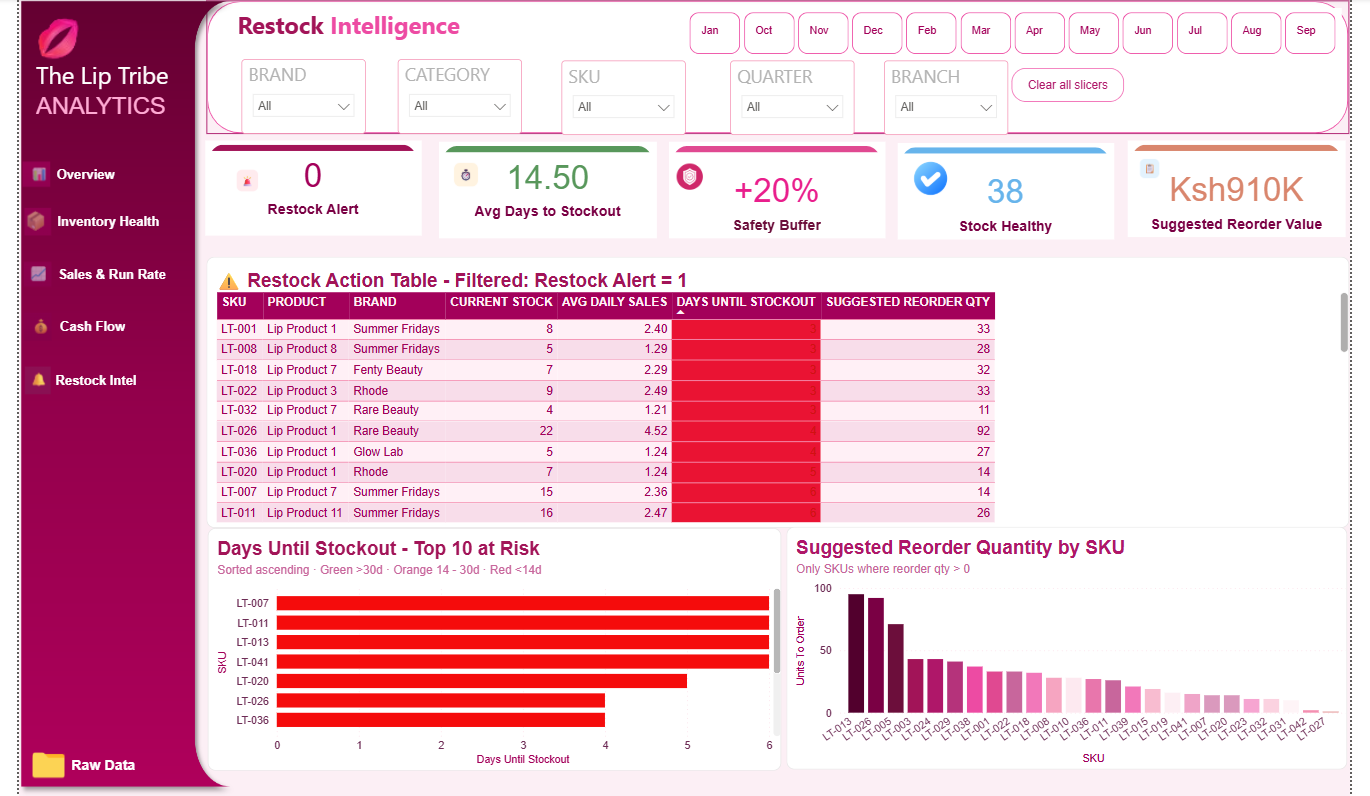

The page's visual inventory and layout, read from the dashboard file:
{"tool":"powerbi","page":{"name":"Restock Intel","canvas":[1500,900],"ordinal":4},"visuals":[{"type":"textbox","box":[240.4,7.6,485.9,83.7],"z":0,"group":"g8"},{"type":"group","id":"g1","title":"Group 1","box":[209.4,160.5,244,107],"z":0,"group":"g6"},{"type":"shape","box":[211.9,3,1288.1,150.7],"z":1000},{"type":"advancedSlicerVisual","fields":{"Values":["Calendar.Month_Short"]},"box":[750.5,11.5,739.8,57.4],"z":1000,"group":"g8"},{"type":"group","id":"g2","title":"Group 2","box":[472.4,162,245.7,108.5],"z":1000,"group":"g6"},{"type":"slicer","title":"BRAND","fields":{"Values":["Products.Brand"]},"box":[249.8,68.9,140.3,83.7],"z":2000,"group":"g8"},{"type":"group","id":"g3","title":"Group 3","box":[728.1,162,247.7,108.5],"z":2000,"group":"g6"},{"type":"tableEx","title":"⚠️ Restock Action Table - Filtered: Restock Alert = 1","fields":{"Values":["Sales.SKU","Products.Product_Name","Products.Brand","Sales.Current Stock","Sales.Avg Daily Sales","Sales.Days Until Stockout","Sales.Suggested Reorder Qty"]},"box":[210.7,291.1,1288.1,305.5],"z":2000},{"type":"image","box":[0,0,246.1,900.3],"z":3000},{"type":"slicer","title":"CATEGORY","fields":{"Values":["Products.Category"]},"box":[426.5,68.9,140.3,83.7],"z":3000,"group":"g8"},{"type":"group","id":"g4","title":"Group 4","box":[989.7,163.6,244,108.5],"z":3000,"group":"g6"},{"type":"barChart","title":"Days Until Stockout - Top 10 at Risk","fields":{"Category":["Products.SKU"],"Y":["Sales.Days Until Stockout"]},"box":[212.5,597.7,646.4,273.4],"z":3000,"group":"g7"},{"type":"textbox","title":"The Lip Tribe","box":[13.8,67.3,304.2,39.7],"z":4000},{"type":"slicer","title":"QUARTER","fields":{"Values":["Calendar.Quarter"]},"box":[800.8,70.6,140.3,83.7],"z":4000,"group":"g8"},{"type":"group","id":"g5","title":"Group 5","box":[1247.3,160.5,247.6,108.5],"z":4000,"group":"g6"},{"type":"slicer","title":"SKU","fields":{"Values":["Products.SKU"]},"box":[610.2,70.6,140.3,83.7],"z":5000,"group":"g8"},{"type":"textbox","title":"ANALYTICS","box":[13.8,107,293.5,44.3],"z":5000},{"type":"columnChart","title":"Suggested Reorder Quantity by SKU","fields":{"Category":["Products.SKU"],"Y":["Sales.Suggested Reorder Qty"]},"box":[865.4,596.1,632,273.4],"z":5000,"group":"g7"},{"type":"image","box":[0,7.6,89.2,71.3],"z":6000},{"type":"slicer","title":"BRANCH","fields":{"Values":["Products.Branch"]},"box":[974,70.6,140.3,83.7],"z":6000,"group":"g8"},{"type":"actionButton","box":[0,179.6,150.3,39.5],"z":7000},{"type":"actionButton","box":[1.3,231.8,198.7,39.5],"z":8000},{"type":"actionButton","box":[1.3,291.7,168.1,39.5],"z":9000},{"type":"actionButton","box":[1.3,350.3,122.3,39.5],"z":10000},{"type":"actionButton","box":[1.3,411.4,135,39.5],"z":11000},{"type":"group","id":"g6","title":"Group 6","box":[209.4,160.5,1285.5,111.6],"z":12000},{"type":"group","id":"g7","title":"Group 8","box":[212.5,596.1,1285.5,273.6],"z":13000},{"type":"group","id":"g8","title":"Group 9","box":[10.7,7.6,1479.6,880.4],"z":14000},{"type":"cardVisual","fields":{"Data":["Sales.Avg Days to Stockout"]},"box":[472.4,162,245.7,108.5],"z":14000,"group":"g2"},{"type":"actionButton","box":[1118.9,79.5,126.9,38.2],"z":15000},{"type":"cardVisual","fields":{"Data":["Sales.Restock Alert"]},"box":[209.4,160.5,244,107],"z":15000,"group":"g1"},{"type":"cardVisual","fields":{"Data":["Sales.Safety Buffer"]},"box":[731.9,162,244,108.5],"z":16000,"group":"g3"},{"type":"image","box":[229.3,183.4,56.6,44.3],"z":16000},{"type":"actionButton","box":[10.7,843.7,123.8,44.3],"z":16008,"group":"g8"},{"type":"image","box":[476.9,180.4,59.6,41.3],"z":17000},{"type":"image","box":[728.1,181.8,55,39.7],"z":19000,"group":"g3"},{"type":"cardVisual","fields":{"Data":["Sales.Stock Healthy"]},"box":[989.7,163.6,244,108.5],"z":20000,"group":"g4"},{"type":"image","box":[997.1,178.7,59.6,48.9],"z":21000,"group":"g4"},{"type":"cardVisual","fields":{"Data":["Sales.Suggested Reorder Value"]},"box":[1249.2,160.5,245.7,108.5],"z":22000,"group":"g5"},{"type":"image","box":[1247.3,167.4,50.4,44.3],"z":23000,"group":"g5"}]}

Visuals, with their boxes on the page's 1500x900 design canvas (x1, y1, x2, y2). These are canvas units, not pixel positions in the 1370x796 screenshot, which may show the page scaled, cropped or inside an application window:
textbox: left=240, top=8, right=726, bottom=91
"Group 1" group: left=209, top=160, right=453, bottom=268
shape: left=212, top=3, right=1500, bottom=154
advancedSlicerVisual - Calendar.Month_Short: left=750, top=12, right=1490, bottom=69
"Group 2" group: left=472, top=162, right=718, bottom=270
"BRAND" slicer: left=250, top=69, right=390, bottom=153
"Group 3" group: left=728, top=162, right=976, bottom=270
"⚠️ Restock Action Table - Filtered: Restock Alert = 1" tableEx: left=211, top=291, right=1499, bottom=597
image: left=0, top=0, right=246, bottom=900
"CATEGORY" slicer: left=426, top=69, right=567, bottom=153
"Group 4" group: left=990, top=164, right=1234, bottom=272
"Days Until Stockout - Top 10 at Risk" barChart: left=212, top=598, right=859, bottom=871
"The Lip Tribe" textbox: left=14, top=67, right=318, bottom=107
"QUARTER" slicer: left=801, top=71, right=941, bottom=154
"Group 5" group: left=1247, top=160, right=1495, bottom=269
"SKU" slicer: left=610, top=71, right=750, bottom=154
"ANALYTICS" textbox: left=14, top=107, right=307, bottom=151
"Suggested Reorder Quantity by SKU" columnChart: left=865, top=596, right=1497, bottom=870
image: left=0, top=8, right=89, bottom=79
"BRANCH" slicer: left=974, top=71, right=1114, bottom=154
actionButton: left=0, top=180, right=150, bottom=219
actionButton: left=1, top=232, right=200, bottom=271
actionButton: left=1, top=292, right=169, bottom=331
actionButton: left=1, top=350, right=124, bottom=390
actionButton: left=1, top=411, right=136, bottom=451
"Group 6" group: left=209, top=160, right=1495, bottom=272
"Group 8" group: left=212, top=596, right=1498, bottom=870
"Group 9" group: left=11, top=8, right=1490, bottom=888
cardVisual - Sales.Avg Days to Stockout: left=472, top=162, right=718, bottom=270
actionButton: left=1119, top=80, right=1246, bottom=118
cardVisual - Sales.Restock Alert: left=209, top=160, right=453, bottom=268
cardVisual - Sales.Safety Buffer: left=732, top=162, right=976, bottom=270
image: left=229, top=183, right=286, bottom=228
actionButton: left=11, top=844, right=134, bottom=888
image: left=477, top=180, right=536, bottom=222
image: left=728, top=182, right=783, bottom=222
cardVisual - Sales.Stock Healthy: left=990, top=164, right=1234, bottom=272
image: left=997, top=179, right=1057, bottom=228
cardVisual - Sales.Suggested Reorder Value: left=1249, top=160, right=1495, bottom=269
image: left=1247, top=167, right=1298, bottom=212
